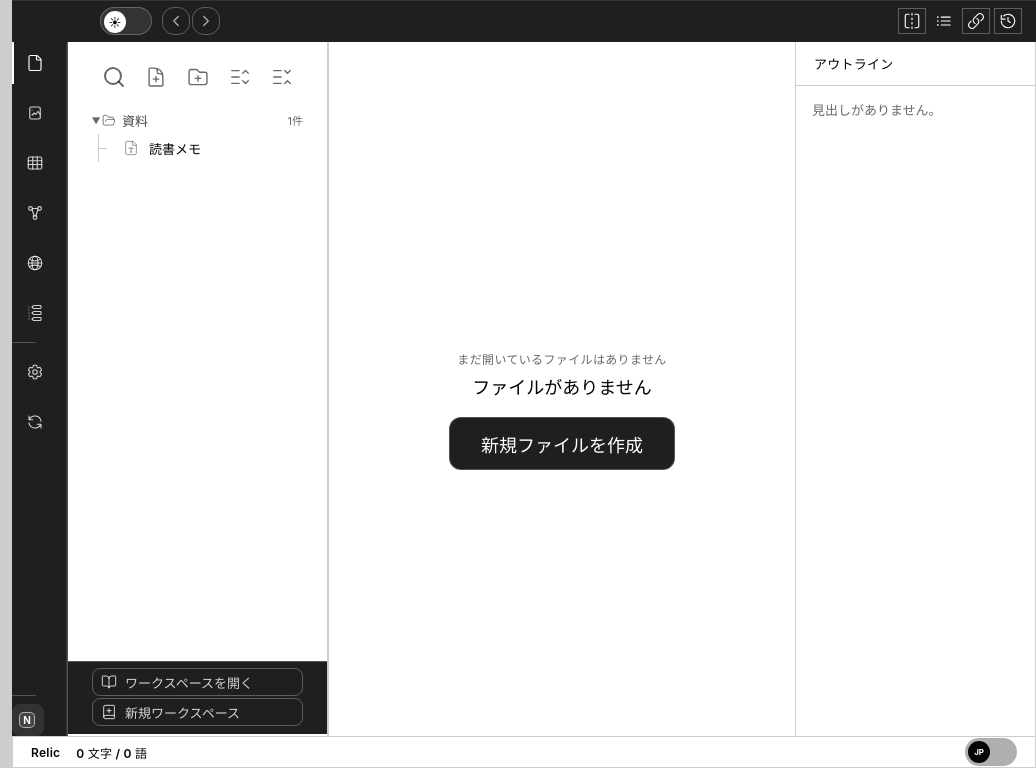
Test: App sidebar panels › ファイルツリーのフォルダを開閉できる
The image size is (1036, 768).
Expected: the button "読書メモ" is shown, 111,134 -> 311,162
Click the button "▶ 資料 1件". click: (198,120)
box: 84,106 -> 311,134
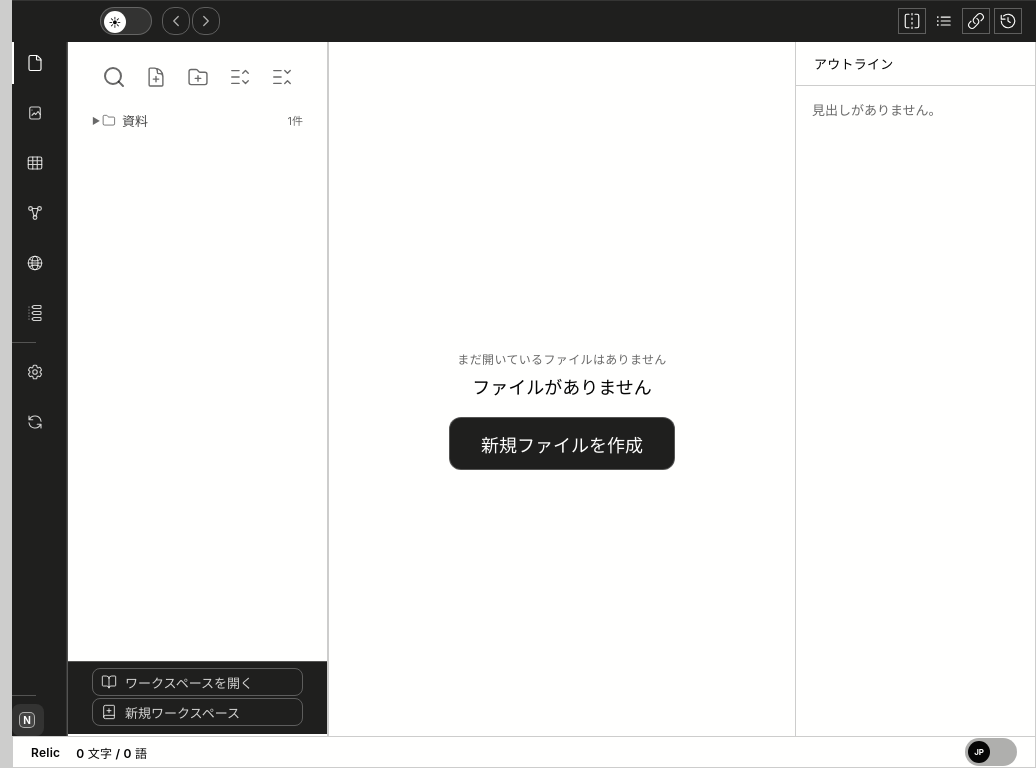
Expected: the button "読書メモ" is gone
Click the button "▶ 資料 1件". click: (198,120)
box: 84,106 -> 311,134
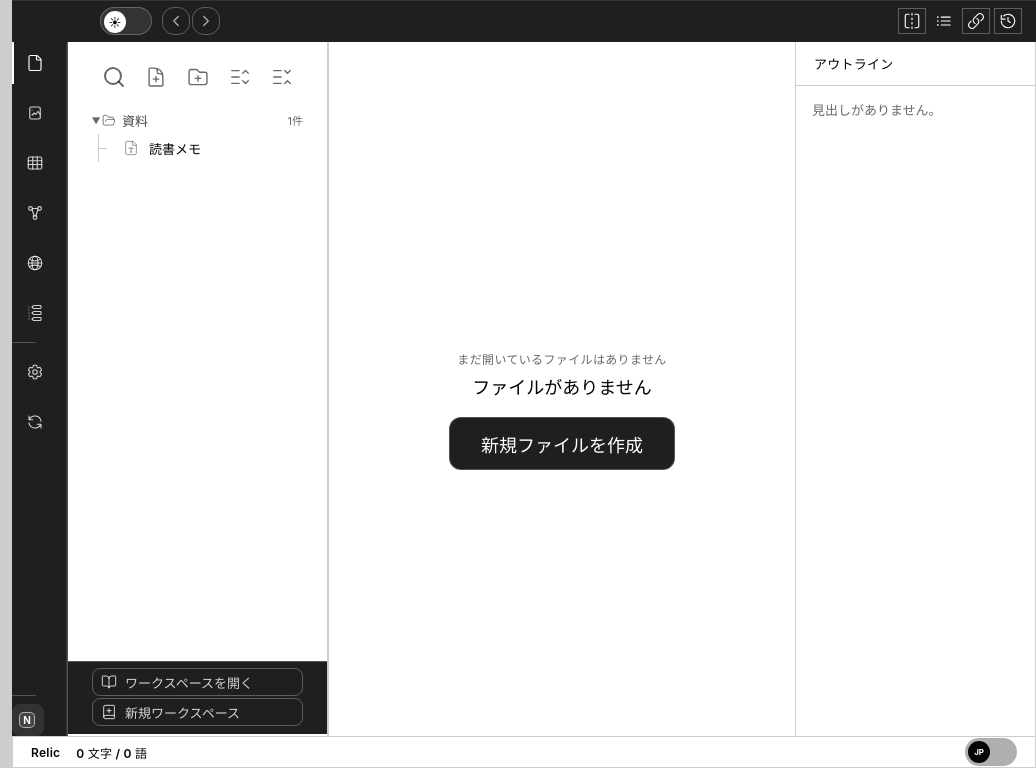
Expected: the button "読書メモ" is shown, 111,134 -> 311,162
